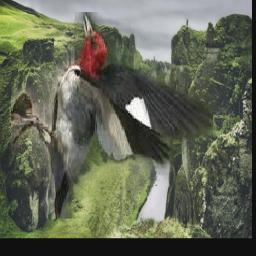Woodpecker: (11, 13, 213, 220)
